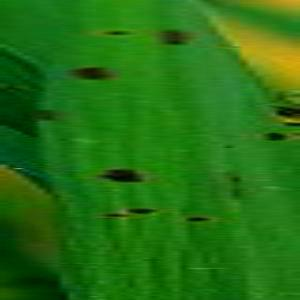0 BrownSpot: (90, 160, 152, 190), (60, 60, 119, 87), (152, 21, 196, 56), (89, 23, 144, 42), (252, 124, 293, 149), (34, 103, 61, 128), (124, 203, 160, 219), (179, 212, 222, 225), (262, 226, 284, 249), (226, 184, 250, 203), (100, 210, 131, 223), (216, 138, 238, 152), (227, 173, 245, 184), (56, 134, 68, 144)
